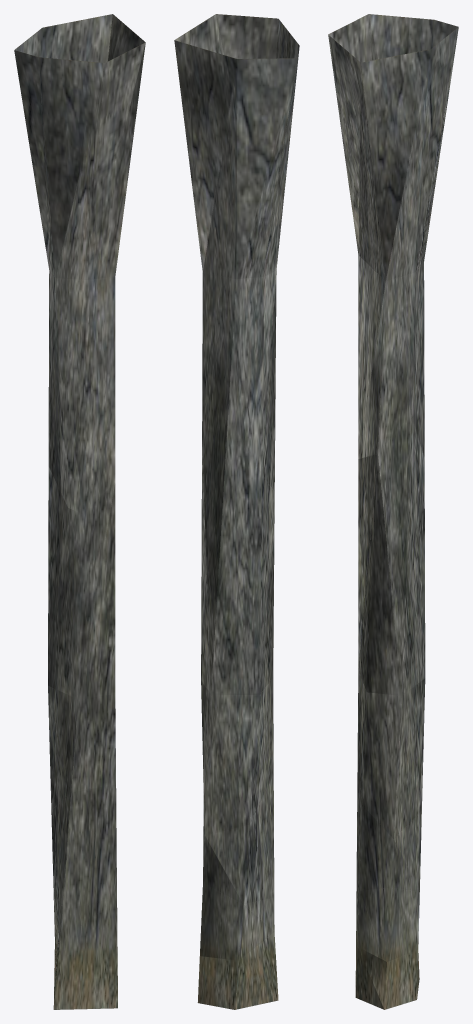
The picture shows the model from 3 angles, left to right: view 1: azimuth 90°, elevation 25°; view 2: azimuth 210°, elevation 25°; view 3: azimuth 270°, elevation 25°; orthographic projection.
Parts seen in each view (by area): view 1: Object07, Object06, Object05, Object03, Object04, Object01, Object02; view 2: Object07, Object05, Object06, Object04, Object03, Object01, Object02; view 3: Object07, Object05, Object06, Object04, Object03, Object02, Object01.
Boxes of the visible parts, left/top/right/bottom form: Object07: left=14, top=14, right=145, bottom=279; Object06: left=48, top=270, right=115, bottom=513; Object05: left=48, top=467, right=115, bottom=699; Object03: left=51, top=784, right=116, bottom=909; Object04: left=48, top=685, right=115, bottom=810; Object01: left=53, top=942, right=117, bottom=1009; Object02: left=53, top=887, right=117, bottom=944; Object07: left=174, top=14, right=299, bottom=279; Object05: left=201, top=418, right=274, bottom=694; Object06: left=202, top=270, right=276, bottom=491; Object04: left=201, top=677, right=273, bottom=835; Object03: left=203, top=775, right=274, bottom=904; Object01: left=197, top=932, right=278, bottom=1009; Object02: left=200, top=883, right=274, bottom=960; Object07: left=328, top=14, right=458, bottom=281; Object05: left=358, top=414, right=425, bottom=695; Object06: left=358, top=255, right=424, bottom=458; Object04: left=357, top=670, right=425, bottom=838; Object03: left=356, top=761, right=421, bottom=891; Object02: left=356, top=872, right=419, bottom=961; Object01: left=355, top=922, right=419, bottom=1009.
Size of the model in its own units: 35.59 by 325 by 40.35.
1 material, 1 textured.
